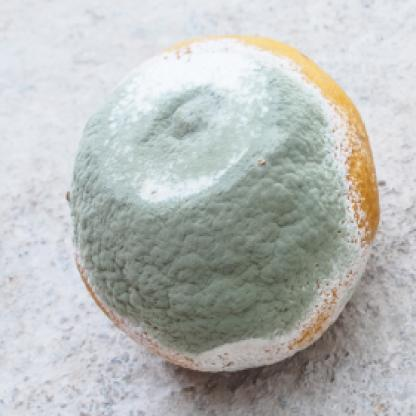rotten: (67, 31, 382, 384)
